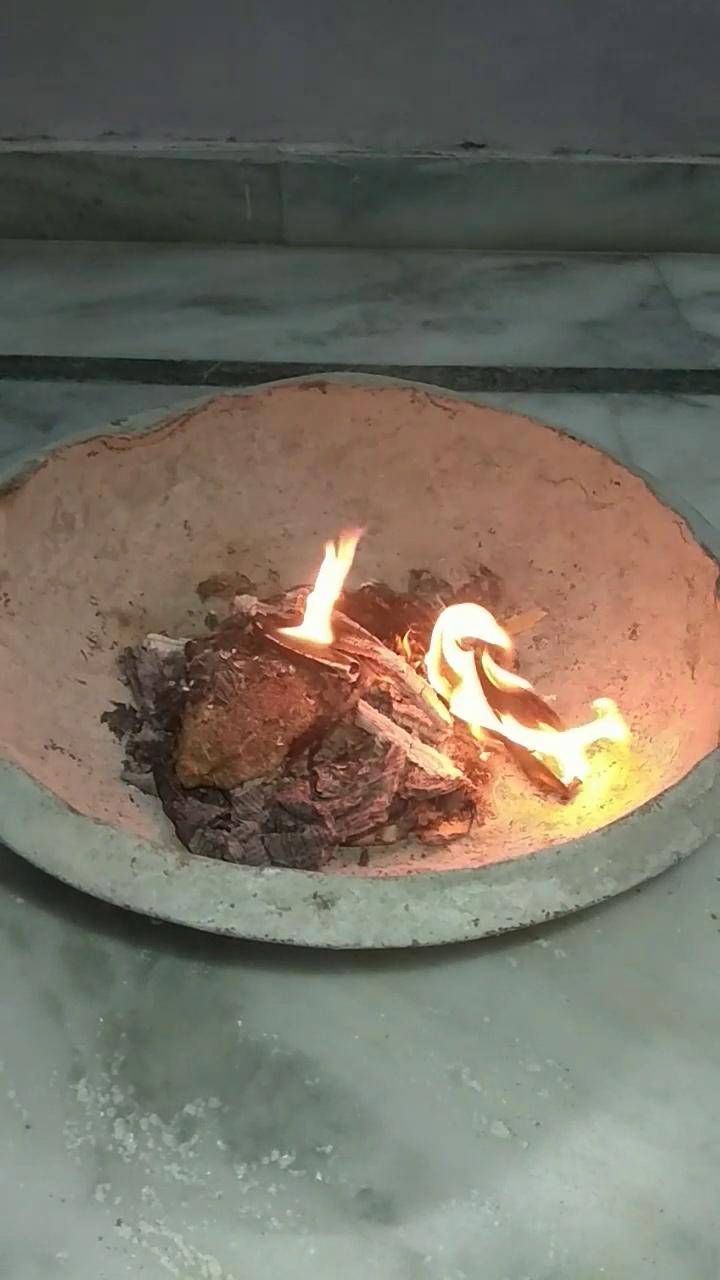fire: (418, 590, 634, 790), (271, 517, 378, 649)
